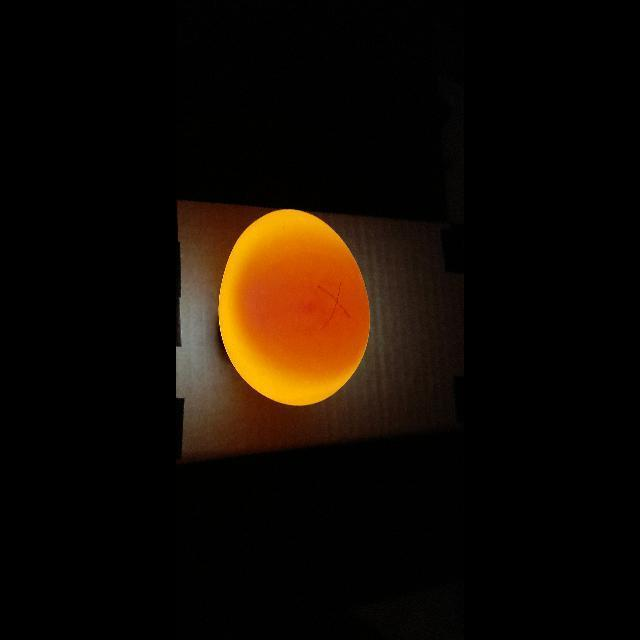Inedible: (210, 194, 383, 436)
